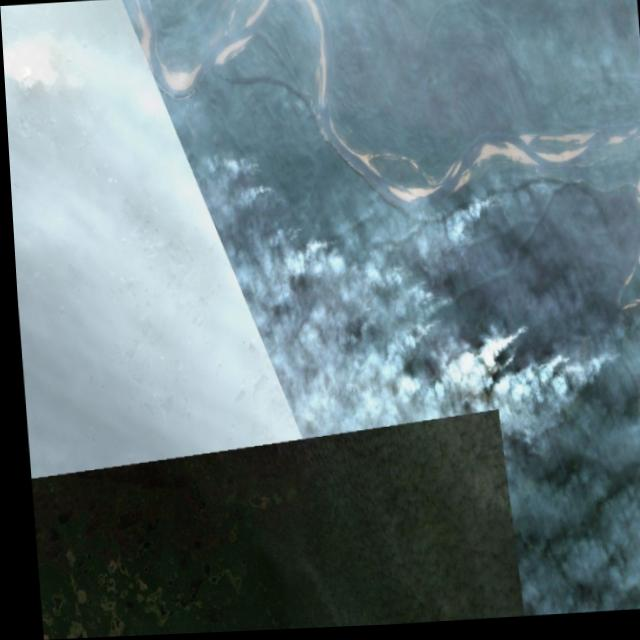fire: (372, 185, 617, 405), (195, 148, 378, 422)
